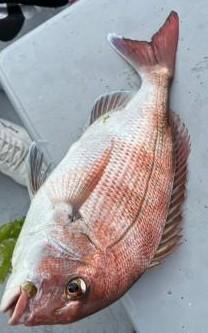fish: (0, 11, 191, 326)
